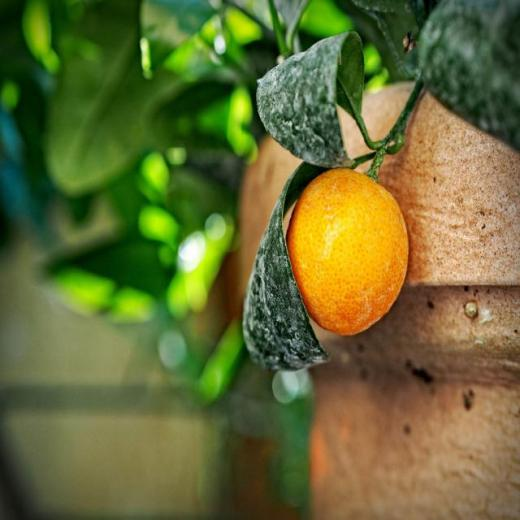Grape: (286, 170, 413, 333)
